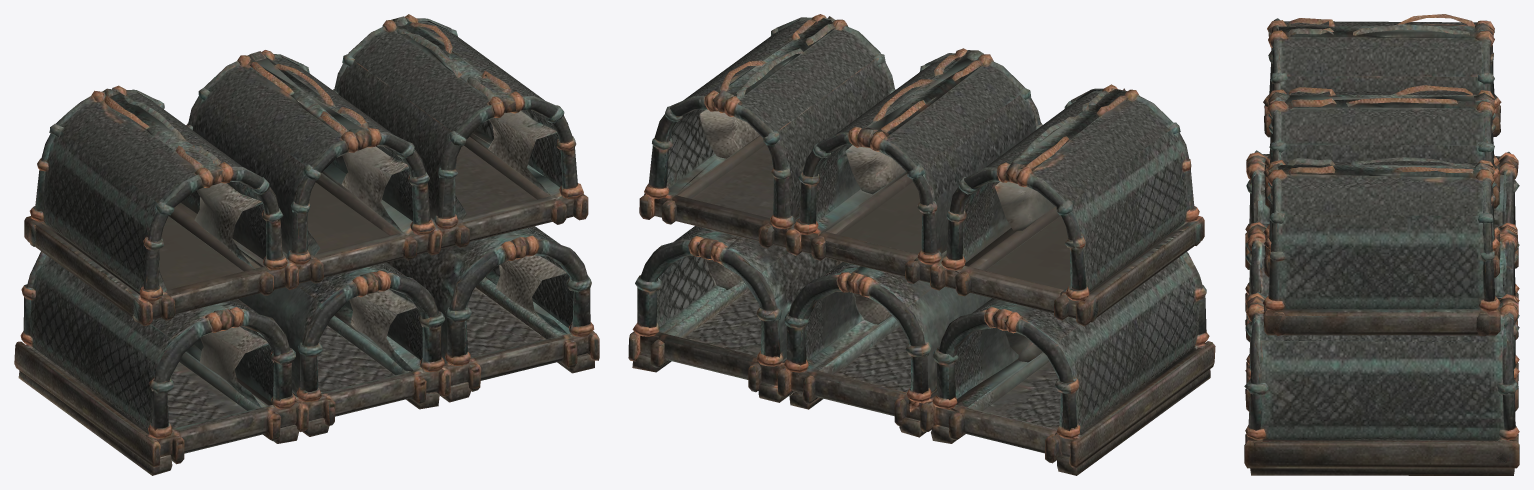
Rendered from lobster_pots.glb.
3 renders of one model, left to right at view 1: azimuth 30°, elevation 25°; view 2: azimuth 150°, elevation 25°; view 3: azimuth 270°, elevation 25°, orthographic. The views are drawn at different scales.
Visible parts, largest first — view 1: Mesh_0; view 2: Mesh_0; view 3: Mesh_0.
Part boxes in pixels (left/top/right/bottom): Mesh_0: left=14, top=14, right=599, bottom=475; Mesh_0: left=628, top=14, right=1215, bottom=475; Mesh_0: left=1244, top=14, right=1519, bottom=475.
Bounding box in the file's own units: 1.6 × 0.9813 × 0.875.
1 material, 1 textured.
